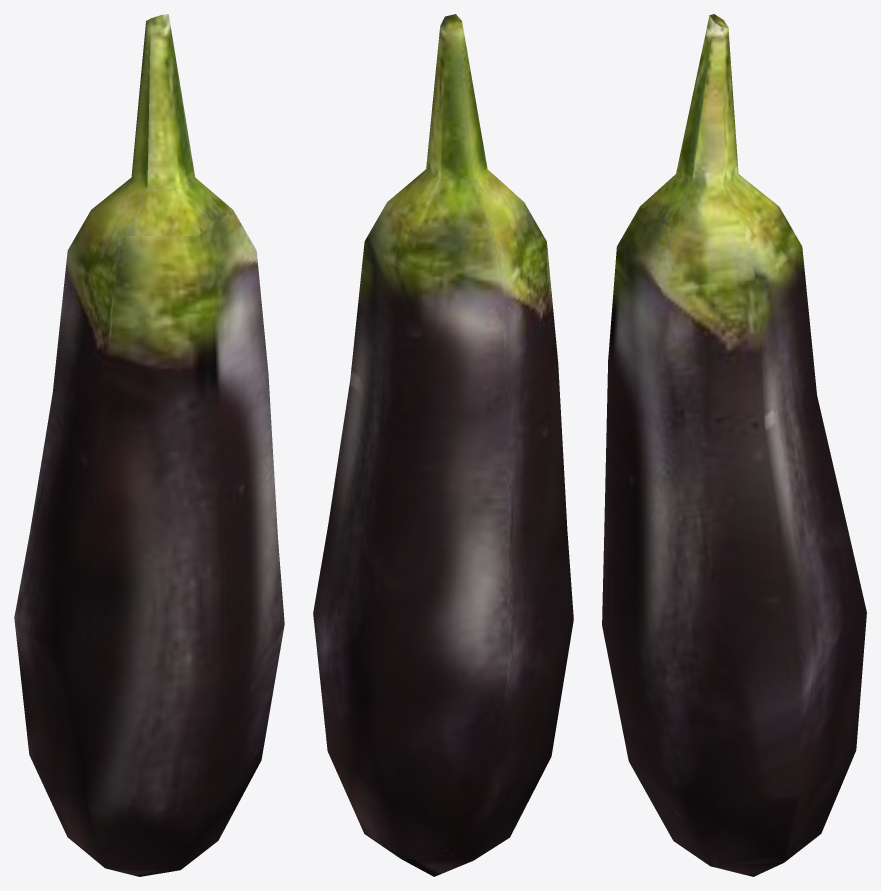
File: Eggplant.glb
3 renders of one model, left to right at view 1: azimuth 30°, elevation 25°; view 2: azimuth 150°, elevation 25°; view 3: azimuth 270°, elevation 25°, orthographic. The views are drawn at different scales.
Parts seen in each view (by area): view 1: Eggplant; view 2: Eggplant; view 3: Eggplant.
Boxes of the visible parts, left/top/right/bottom form: Eggplant: left=14, top=14, right=284, bottom=876; Eggplant: left=313, top=14, right=573, bottom=876; Eggplant: left=602, top=14, right=866, bottom=876.
Size of the model in its own units: 0.0632 by 0.2614 by 0.0728.
1 material, 1 textured.
